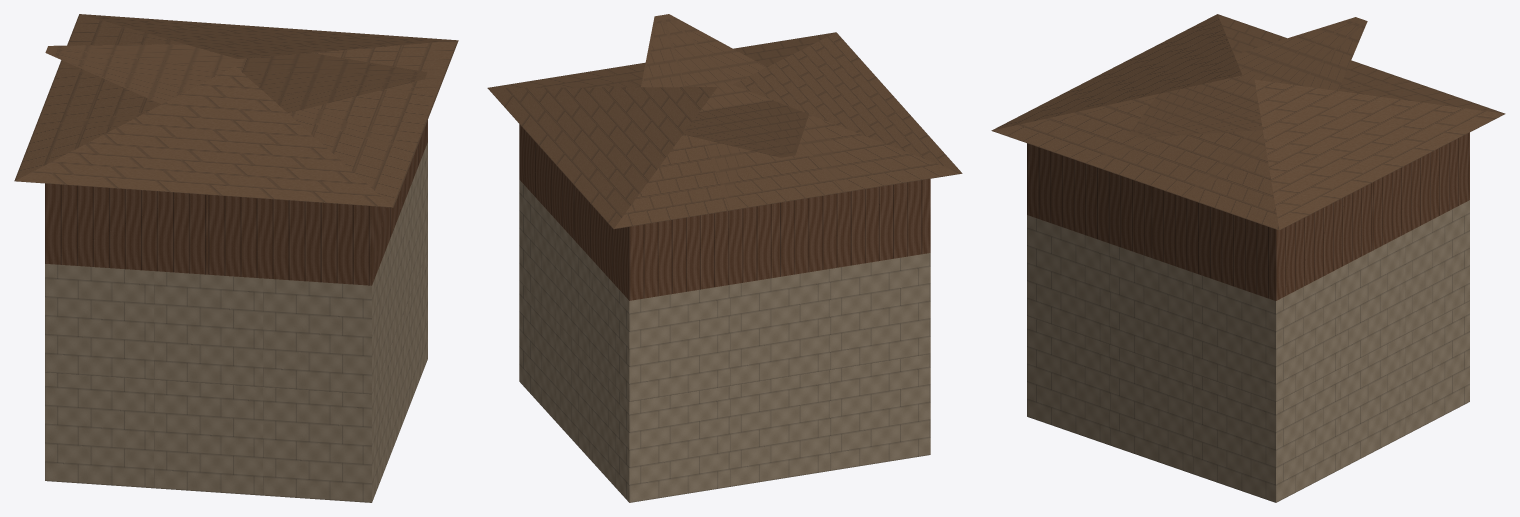
File: bld_c-8_19_620.gltf
3 views of the same model, side by side, from view 1: azimuth 30°, elevation 25°; view 2: azimuth 150°, elevation 25°; view 3: azimuth 270°, elevation 25° (orthographic). The views are drawn at different scales.
Visible parts, largest first — view 1: bld_c-8_19_620; view 2: bld_c-8_19_620; view 3: bld_c-8_19_620.
Boxes of the visible parts, <box> form: bld_c-8_19_620: <box>14,14,458,502</box>; bld_c-8_19_620: <box>487,14,962,502</box>; bld_c-8_19_620: <box>991,14,1505,502</box>.
Bounding box in the file's own units: 10.36 × 7.4 × 10.4.
Materials: 3 (3 with a texture image).
